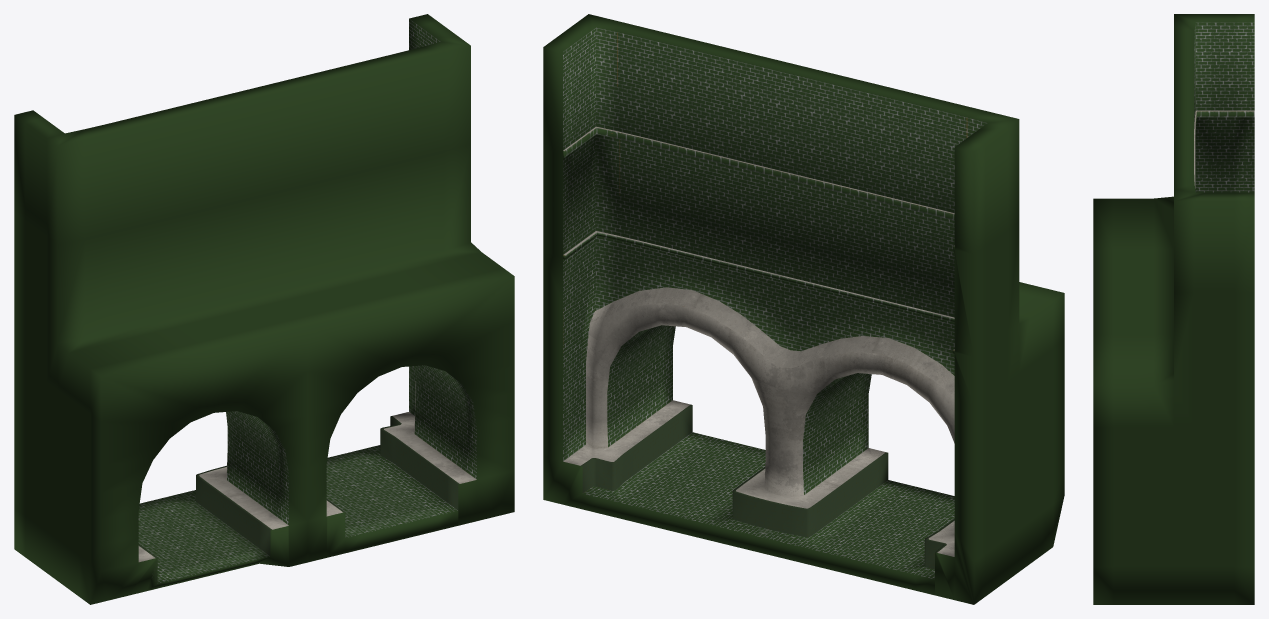
Rendered from SewerModule_BigAdapter_1_001.fbx.
The picture shows the model from 3 angles, left to right: view 1: azimuth 30°, elevation 25°; view 2: azimuth 150°, elevation 25°; view 3: azimuth 270°, elevation 25°; orthographic projection. The views are drawn at different scales.
Visible parts, largest first — view 1: Big Split.002; view 2: Big Split.002; view 3: Big Split.002.
Boxes of the visible parts, <box> form: Big Split.002: <box>14,14,514,604</box>; Big Split.002: <box>543,14,1064,604</box>; Big Split.002: <box>1093,14,1254,604</box>.
Size of the model in its own units: 2200 by 2210 by 800.
